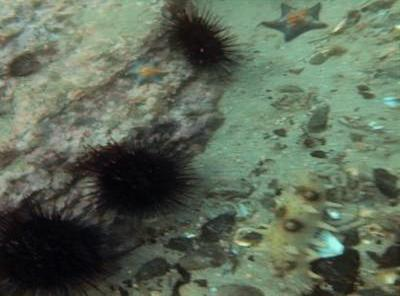urchin: (0, 204, 115, 296), (93, 143, 195, 216), (167, 8, 241, 70)
